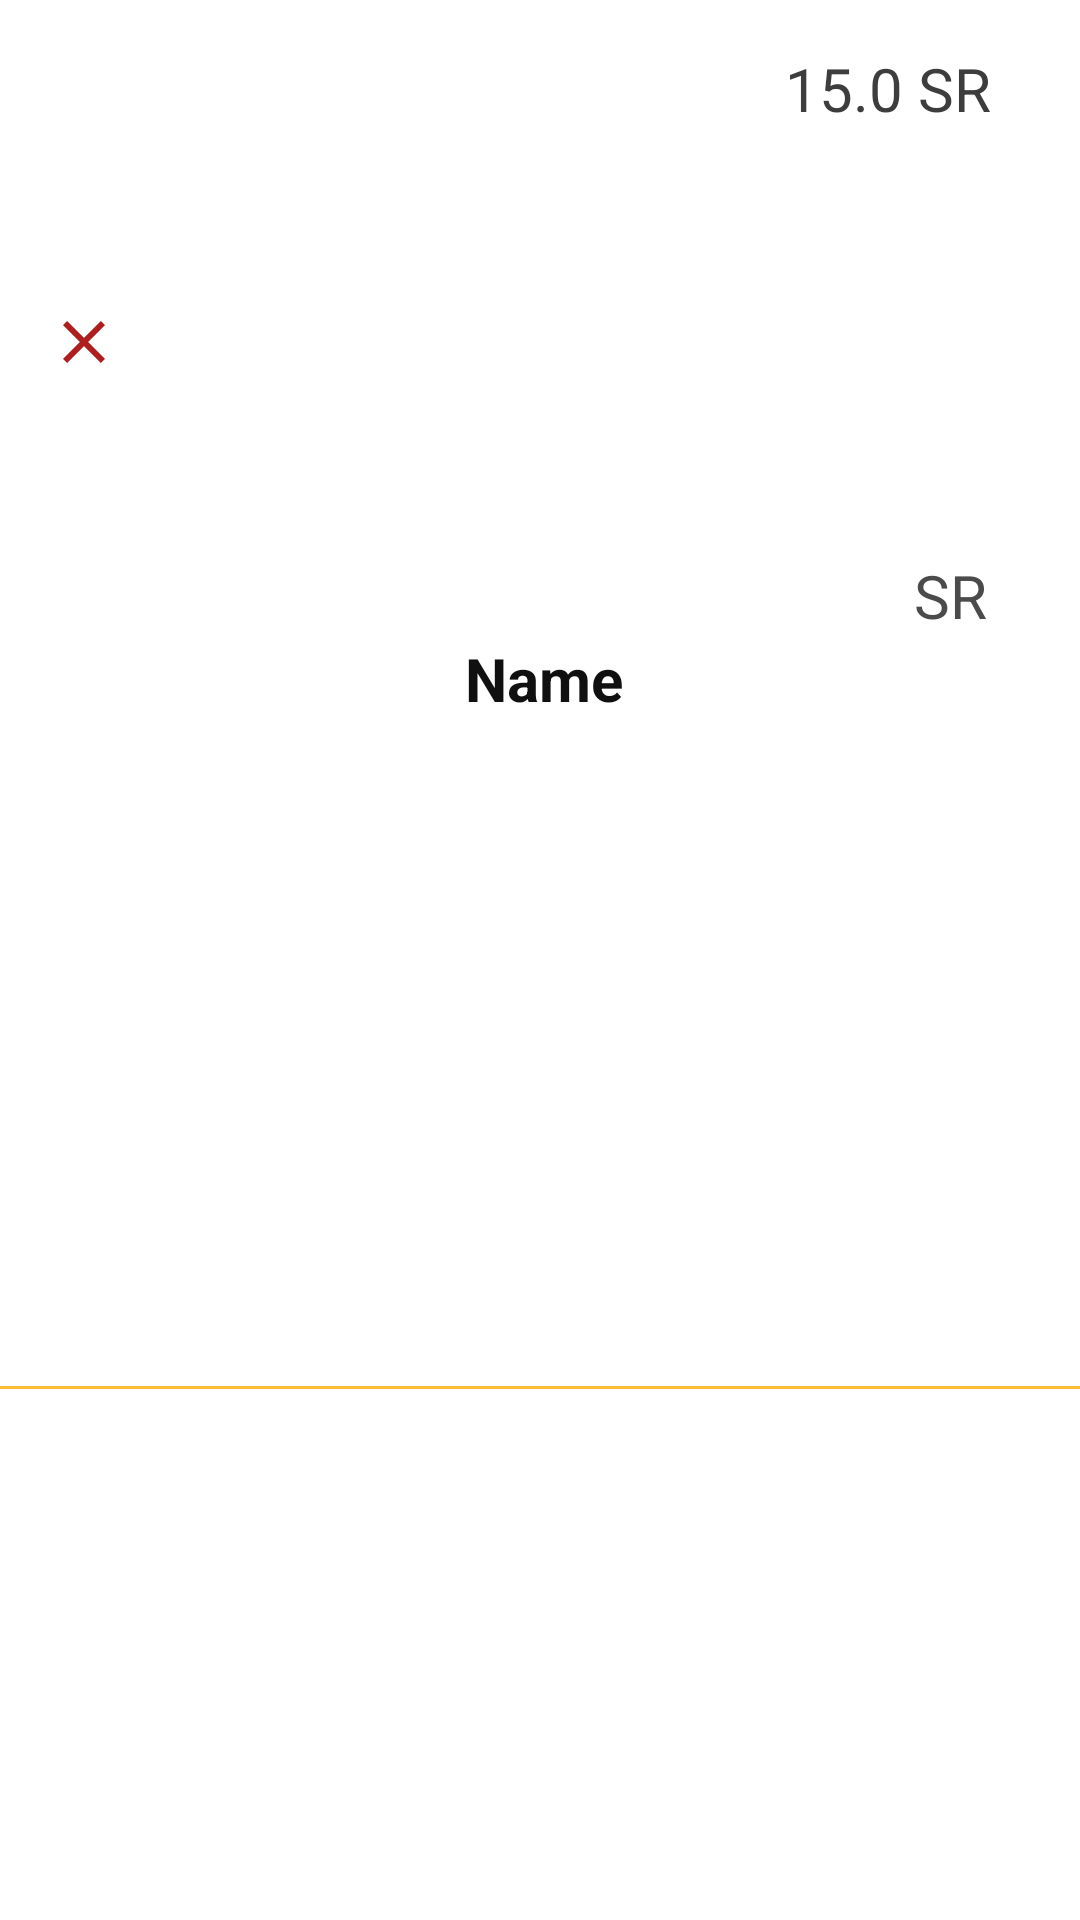

Screen size 1080 × 1920. Icon name, then its center in pixels as (x,y):
clear: (84,342)
